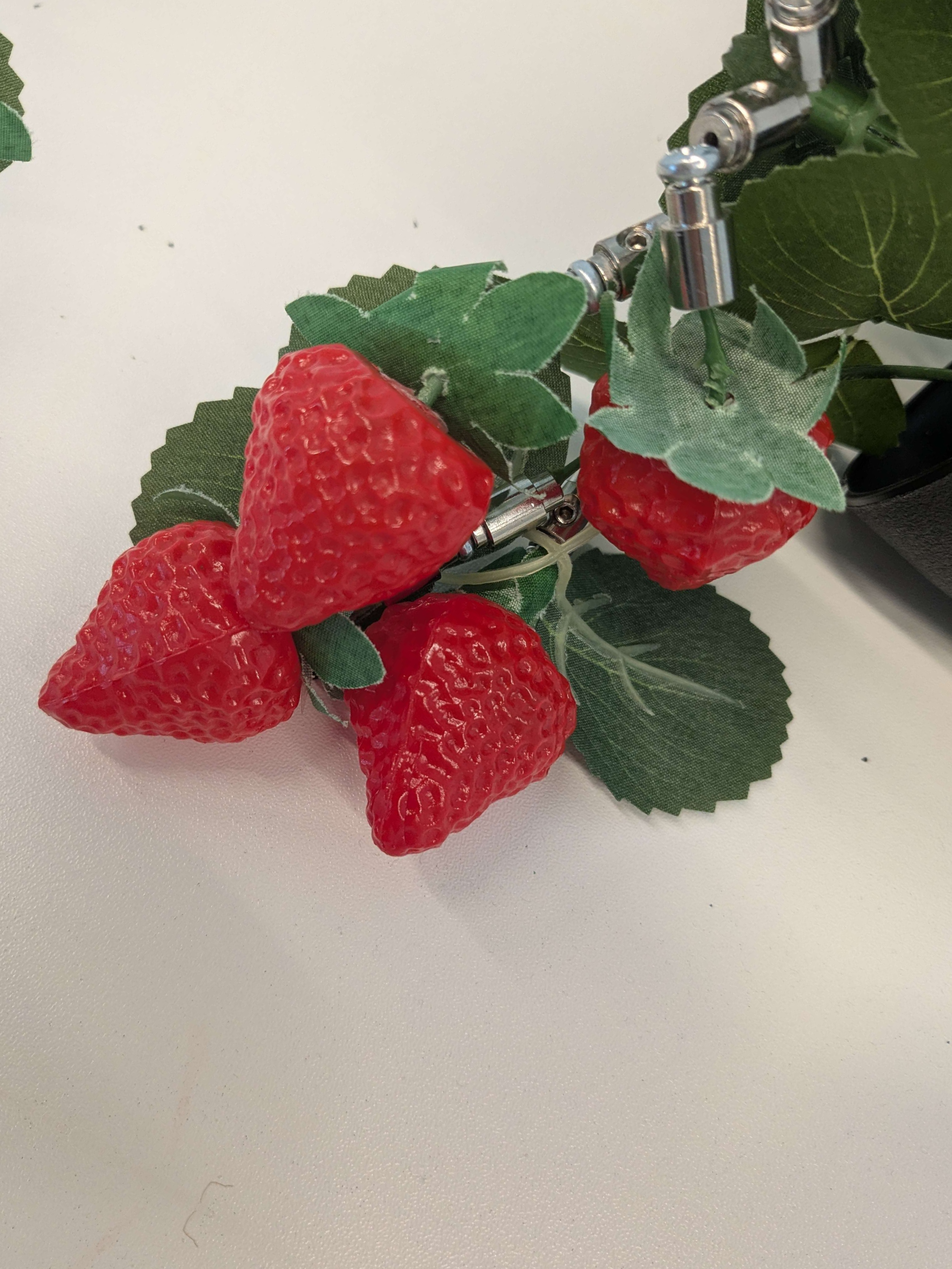Strawberry: (152, 311, 528, 712), (0, 477, 370, 855), (516, 266, 882, 630), (271, 553, 609, 918)
